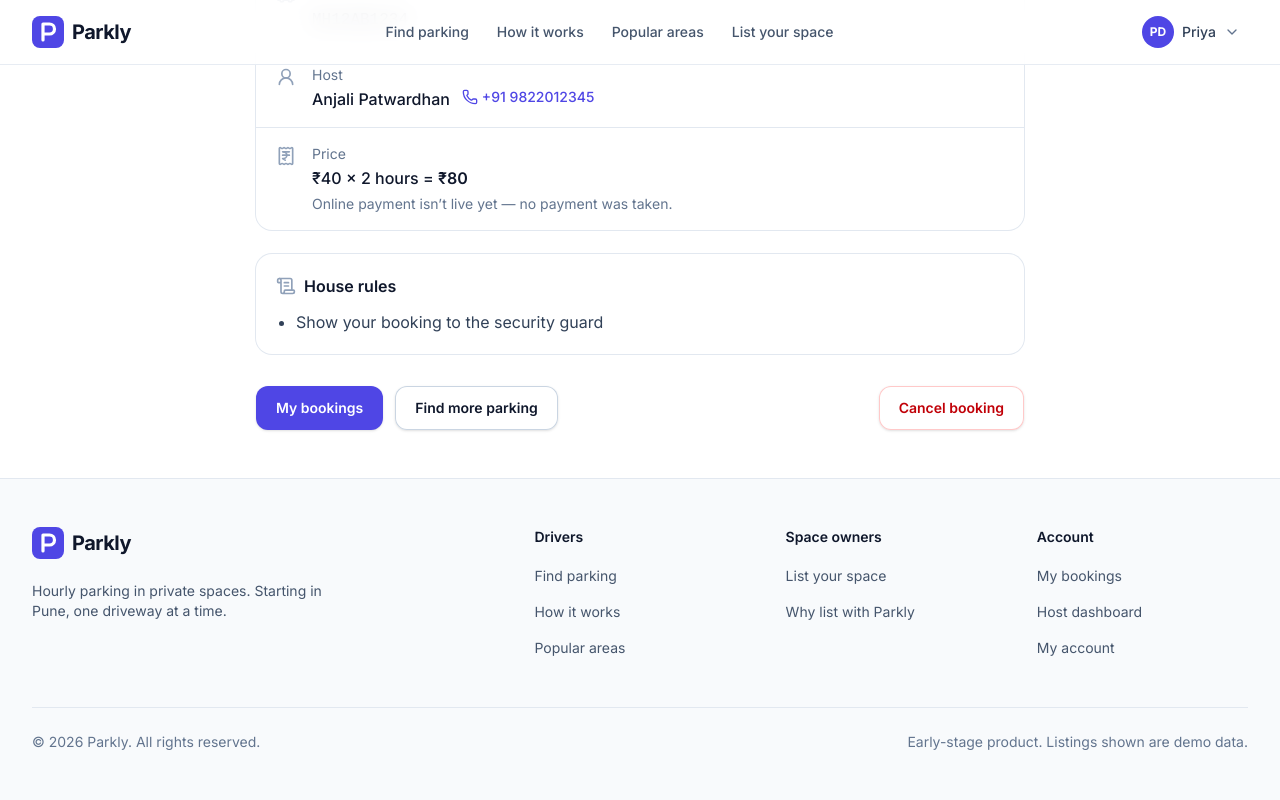
Test case: Cancelling a booking › asks for confirmation, then cancels and updates the page
(page scrolled)
Step 1. Click the button "Cancel booking" → [951, 408], box [879, 386, 1024, 430]
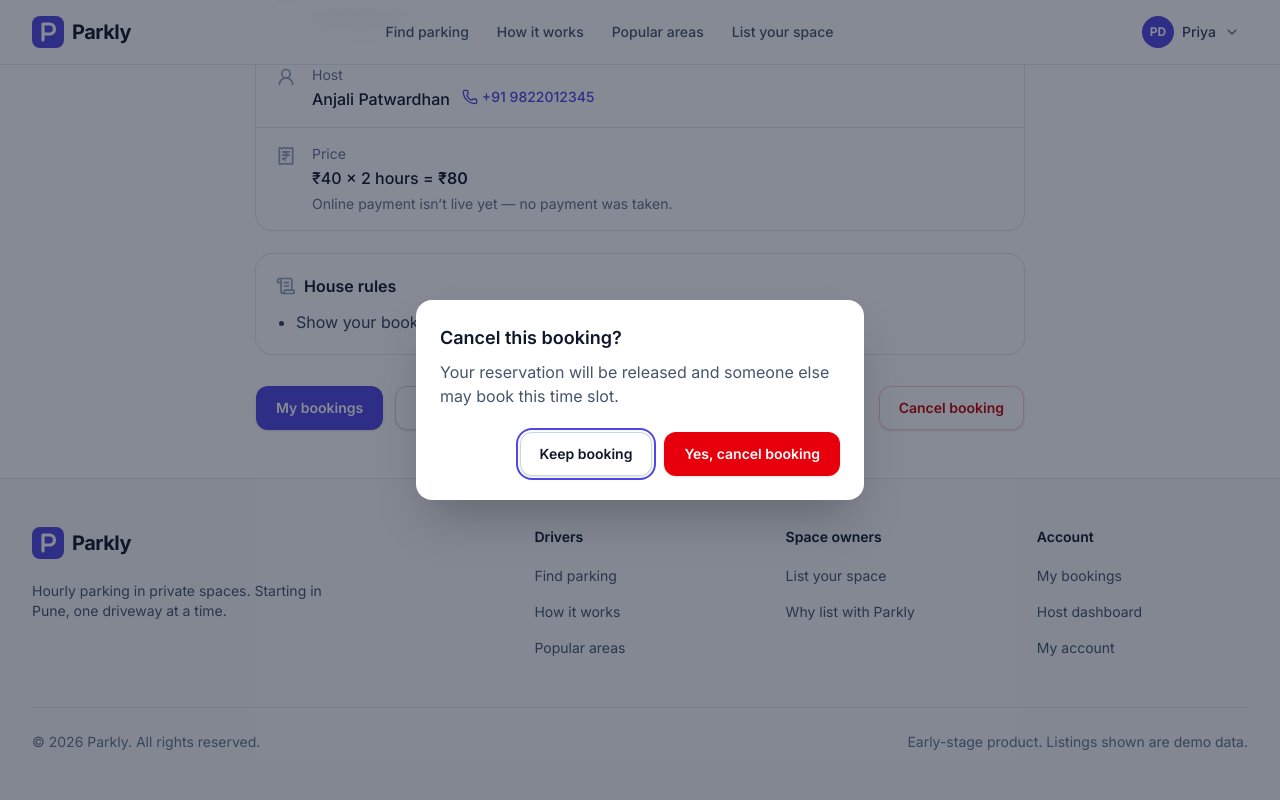
// Escape closes without cancelling.
Step 2. Press Escape
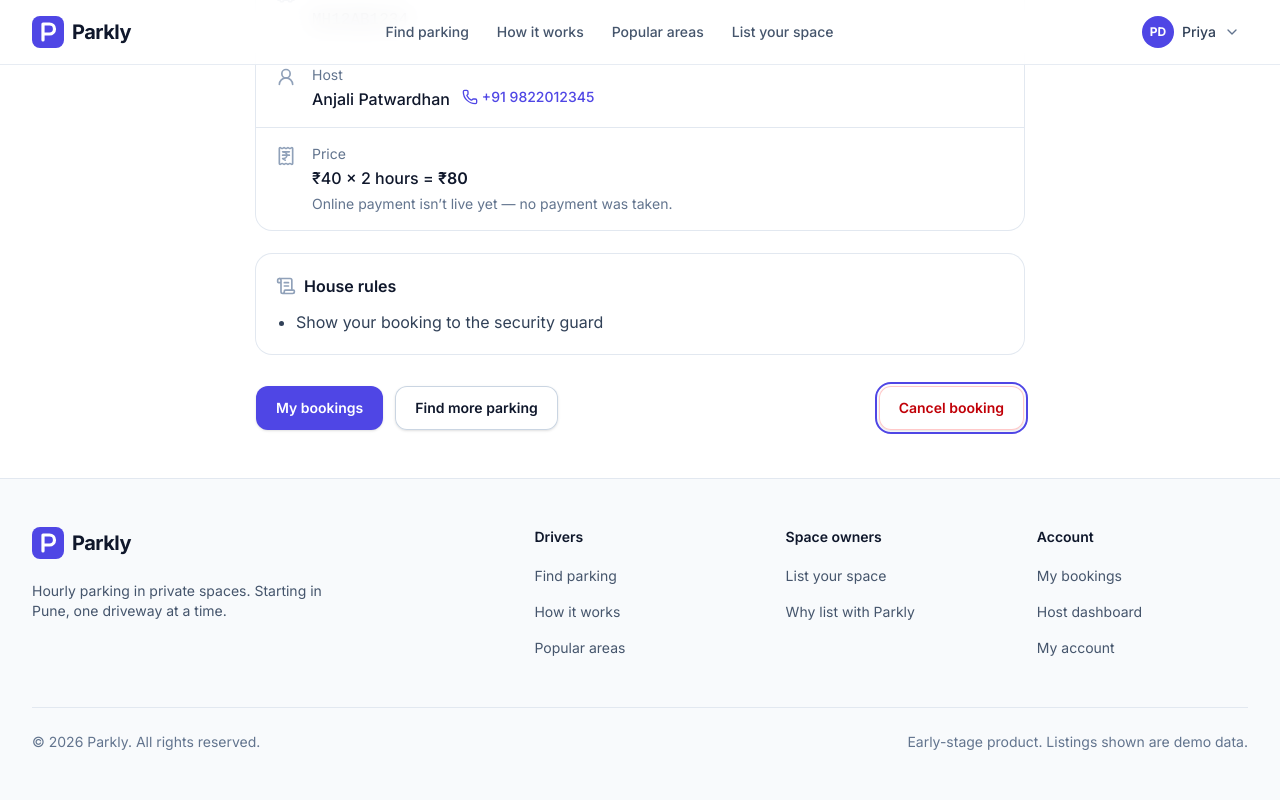
Check: the dialog is gone
Step 3. Click the button "Cancel booking" → [951, 408], box [879, 386, 1024, 430]
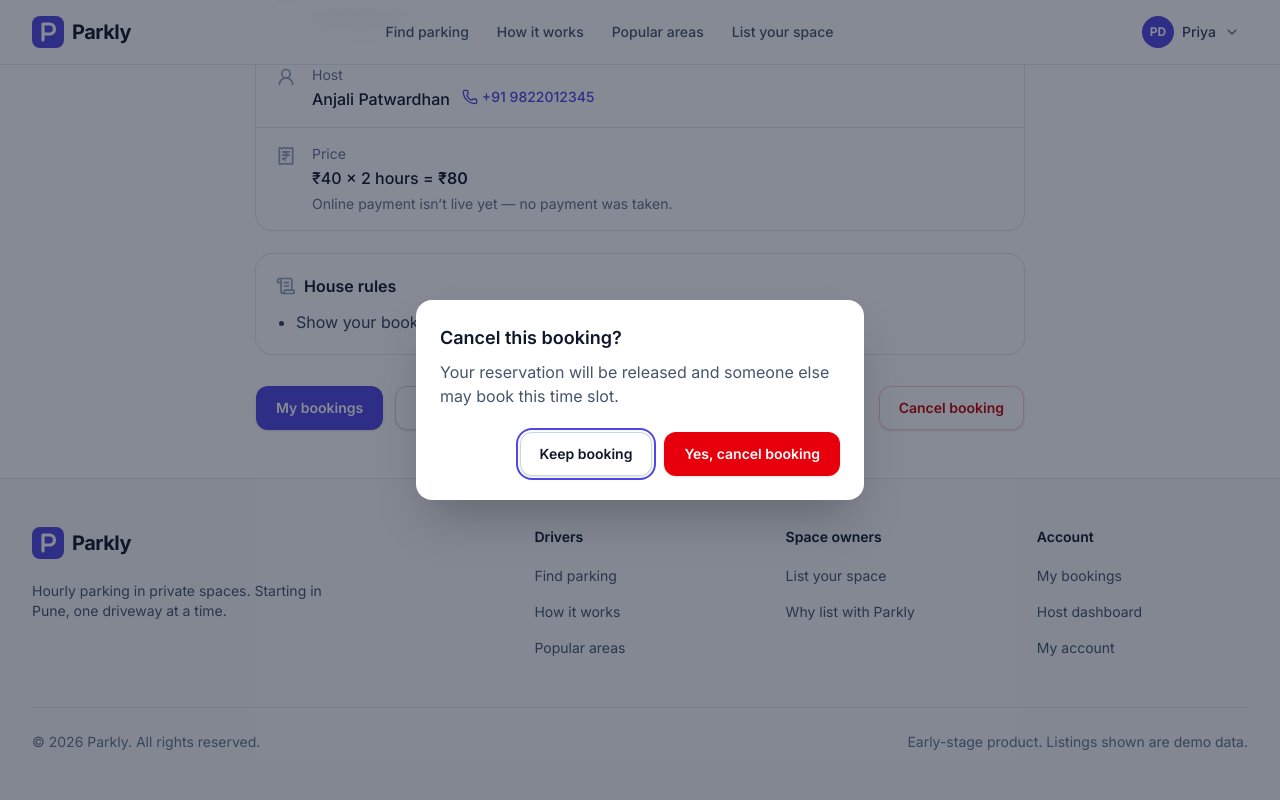
Step 4. Click the button "Yes, cancel booking" → [752, 454], box [664, 432, 840, 476]
(page scrolled)
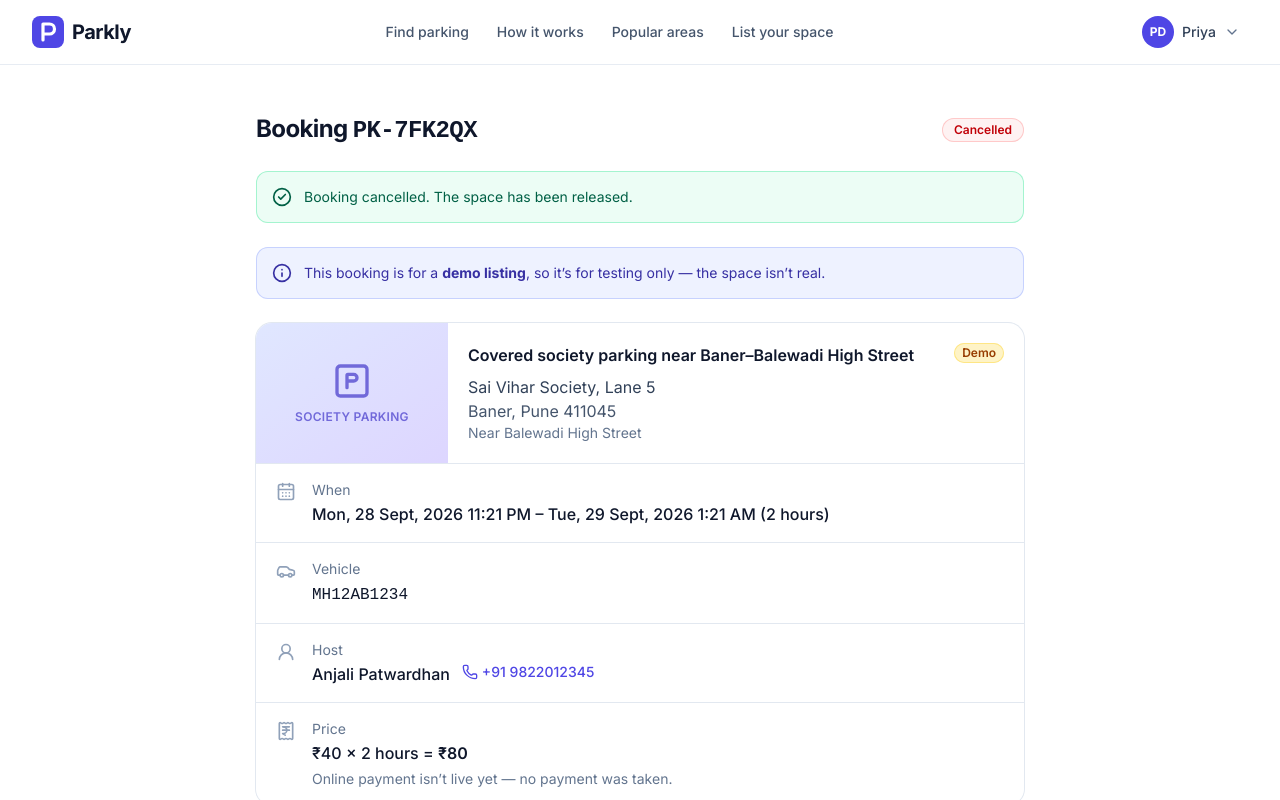
Check: the text "Booking cancelled. The space has been released." is shown, box [304, 187, 633, 207]
Check: the text "Cancelled" is shown, box [942, 118, 1024, 142]
Check: the button "Cancel booking" is gone
